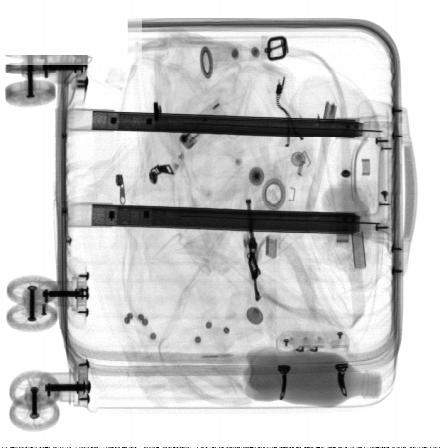Lighter: (174, 99, 226, 151)
